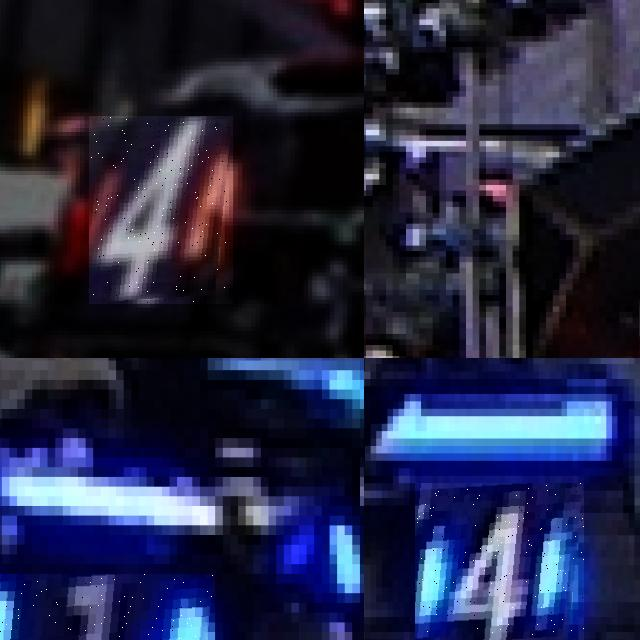B1: (0, 574, 215, 640)
B4: (415, 483, 583, 640)
R4: (89, 116, 233, 304)
